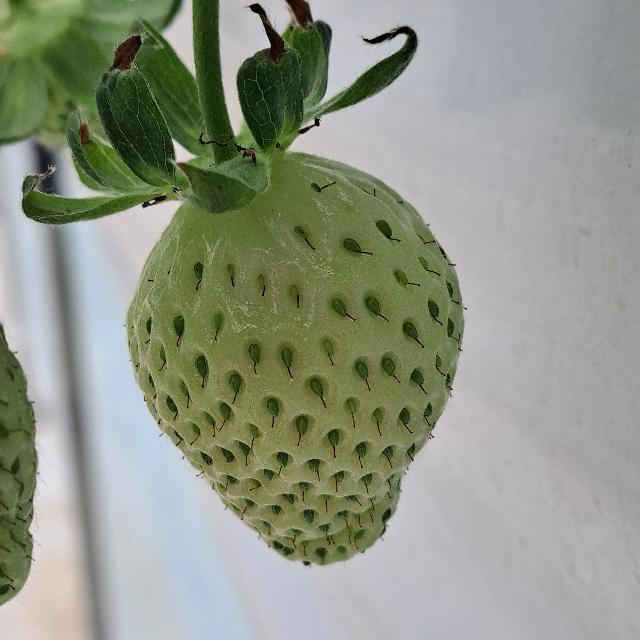Health_25: (126, 152, 464, 566)
